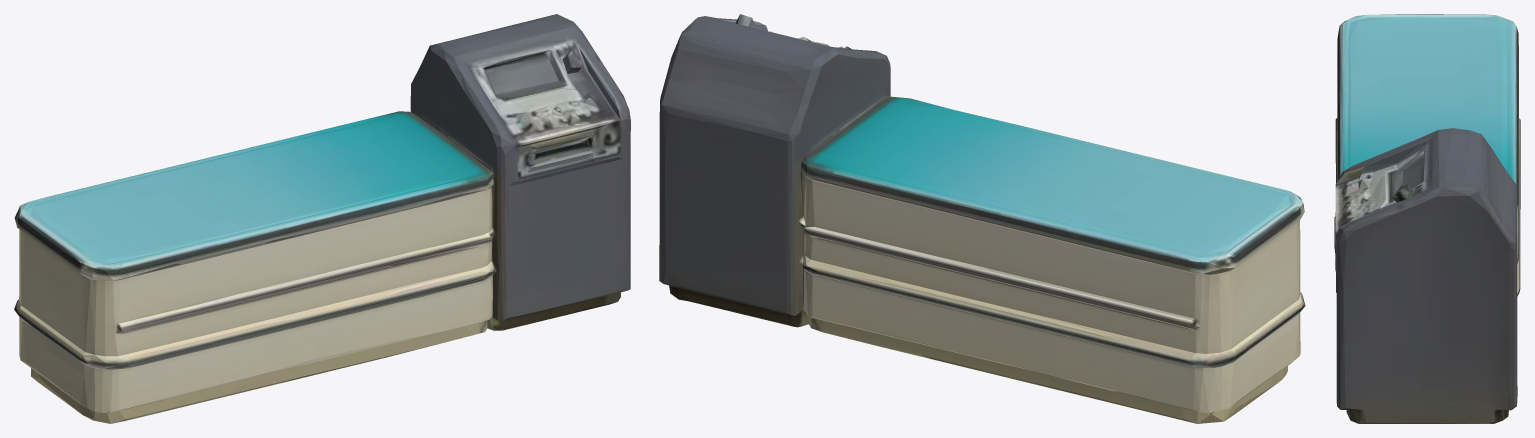
Rendered from counter.glb.
3 renders of one model, left to right at view 1: azimuth 30°, elevation 25°; view 2: azimuth 150°, elevation 25°; view 3: azimuth 270°, elevation 25°, orthographic. The views are drawn at different scales.
Parts seen in each view (by area): view 1: figure; view 2: figure; view 3: figure.
Part boxes in pixels (x1,y1,x2,y2): figure: (14,14,630,423); figure: (659,14,1305,423); figure: (1334,14,1520,423).
Size of the model in its own units: 2.33 by 1 by 0.7173.
1 material, 1 textured.
